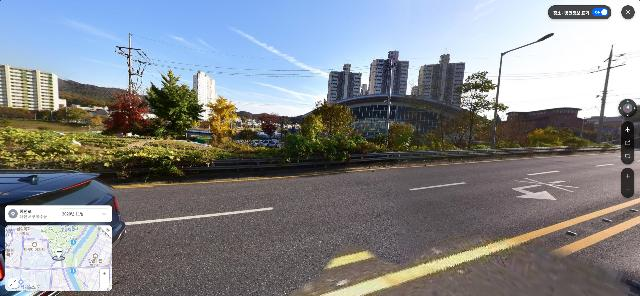ginkgo: (205, 96, 241, 147)
other: (454, 71, 509, 148), (145, 70, 204, 140), (102, 91, 154, 137), (312, 98, 358, 138), (427, 97, 453, 150), (499, 116, 531, 144), (387, 121, 416, 150), (525, 127, 564, 148), (255, 113, 284, 140)
